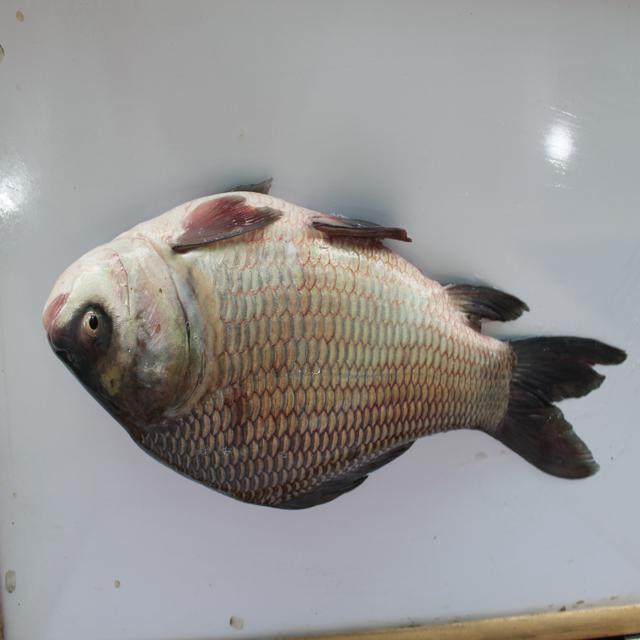Catla: (42, 170, 625, 510)
